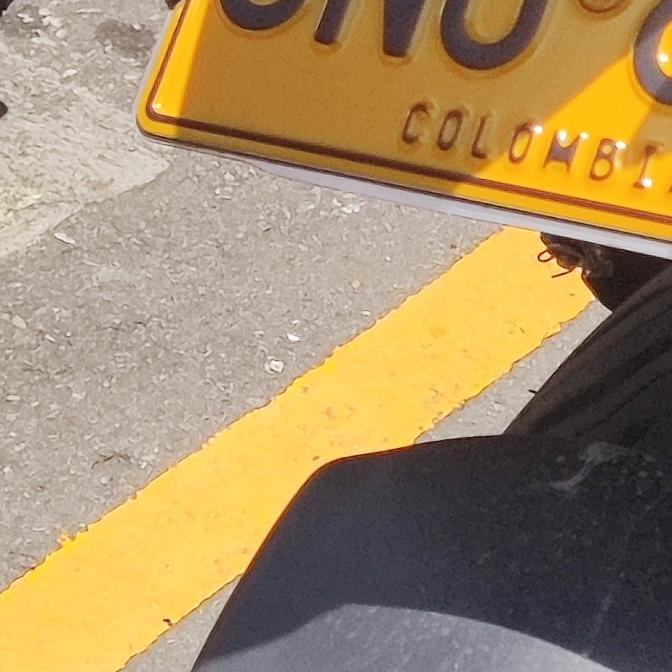plates: (117, 0, 672, 247)
